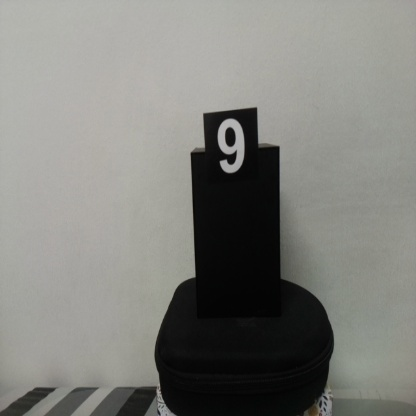id_9: (204, 113, 259, 196)
